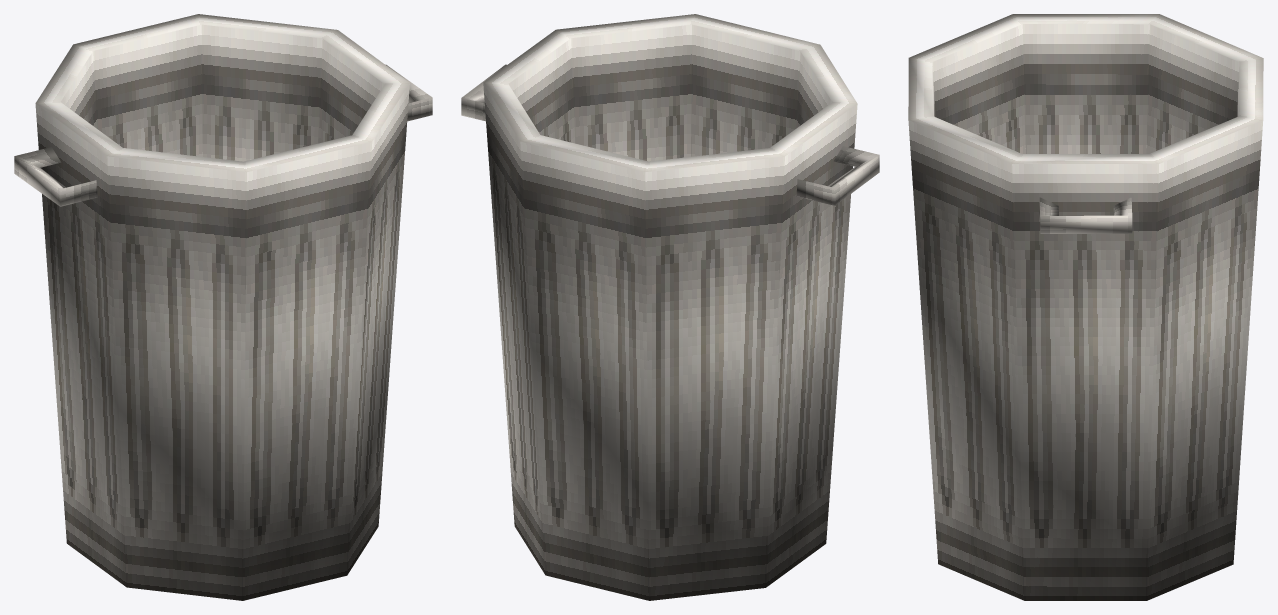
File: a_SCwb03.glb
The picture shows the model from 3 angles, left to right: view 1: azimuth 30°, elevation 25°; view 2: azimuth 150°, elevation 25°; view 3: azimuth 270°, elevation 25°; orthographic projection.
Visible parts, largest first — view 1: a_SCwb03; view 2: a_SCwb03; view 3: a_SCwb03.
Part boxes in pixels (<box>): a_SCwb03: <box>14,14,432,600</box>; a_SCwb03: <box>461,14,879,600</box>; a_SCwb03: <box>908,14,1263,600</box>.
Bounding box in the file's own units: 0.8869 × 1 × 0.7178.
1 material, 1 textured.
